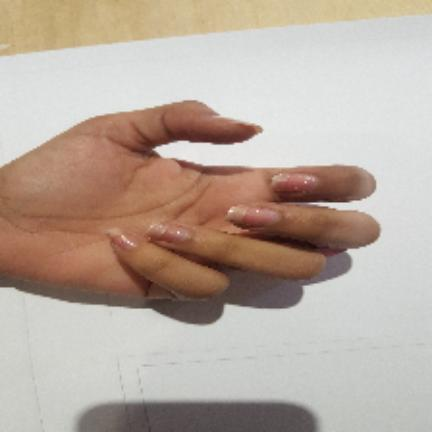Nail: (225, 205, 279, 227), (271, 173, 319, 192), (148, 222, 191, 243), (106, 228, 138, 249), (219, 117, 250, 123)
